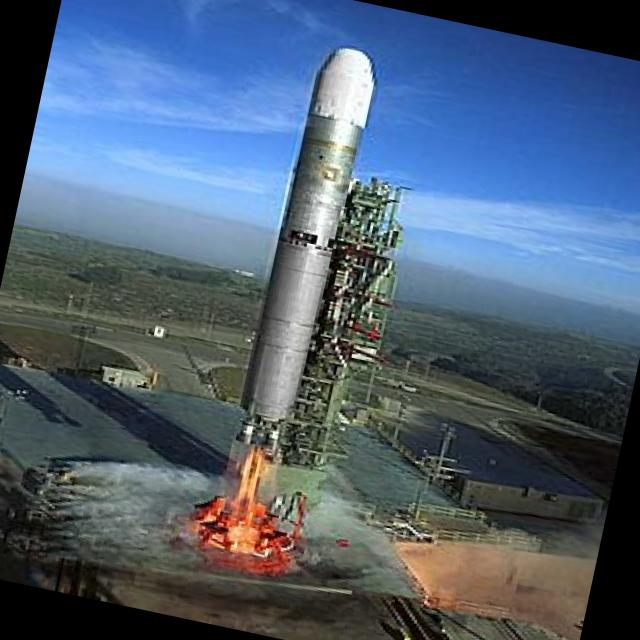rocket: (199, 32, 394, 552)
